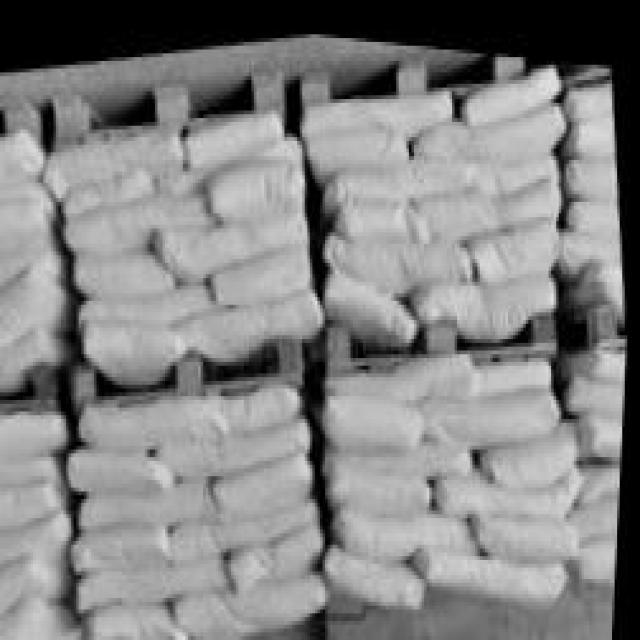gunny_bag: (150, 185, 304, 277), (43, 116, 186, 196), (179, 276, 322, 354), (320, 144, 472, 212), (175, 482, 316, 554), (158, 405, 313, 470), (66, 180, 205, 252), (408, 87, 566, 150), (412, 368, 562, 433), (415, 537, 573, 597), (414, 259, 557, 324), (81, 547, 230, 608), (297, 74, 456, 130), (413, 163, 554, 226), (435, 447, 587, 505), (77, 386, 213, 446), (79, 471, 215, 528), (214, 438, 320, 511), (324, 222, 470, 273), (336, 497, 478, 549), (233, 509, 328, 584), (325, 262, 420, 337), (468, 200, 561, 274), (482, 404, 583, 472), (0, 263, 78, 351), (325, 536, 430, 601), (210, 234, 312, 300), (183, 96, 282, 162), (460, 47, 558, 113), (80, 275, 205, 326), (322, 386, 426, 445), (305, 114, 399, 179), (86, 320, 185, 381), (229, 564, 330, 621), (473, 497, 580, 550), (76, 511, 170, 570), (206, 373, 308, 427), (75, 241, 174, 295), (326, 431, 478, 466), (72, 441, 173, 492), (212, 152, 301, 209), (0, 545, 79, 608), (85, 594, 191, 640), (469, 133, 562, 185), (329, 456, 434, 502), (0, 505, 77, 561), (561, 245, 627, 309), (3, 589, 82, 640), (338, 189, 415, 236), (0, 194, 61, 253), (0, 476, 71, 526), (560, 215, 623, 270), (0, 411, 75, 457), (0, 450, 72, 489), (562, 60, 613, 112), (568, 359, 628, 401), (0, 126, 44, 182), (565, 144, 618, 184), (564, 99, 615, 139), (580, 521, 622, 567), (568, 185, 621, 220), (583, 401, 626, 440), (581, 481, 623, 519), (586, 448, 625, 485)
